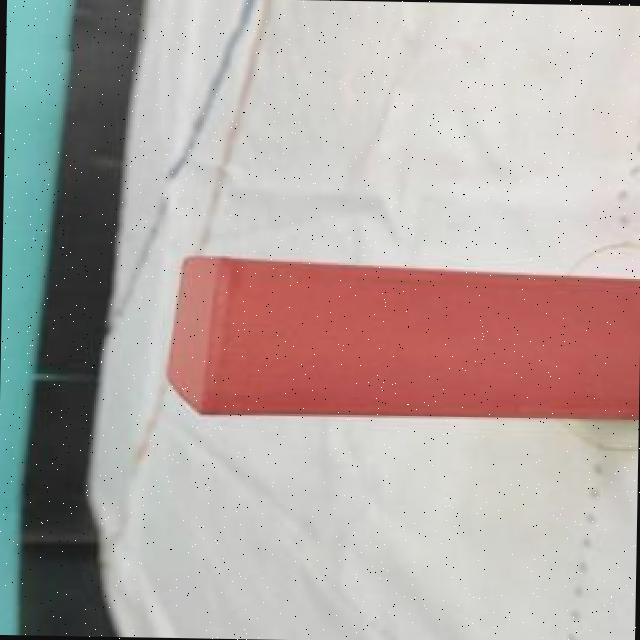redbox: (159, 257, 640, 426)
